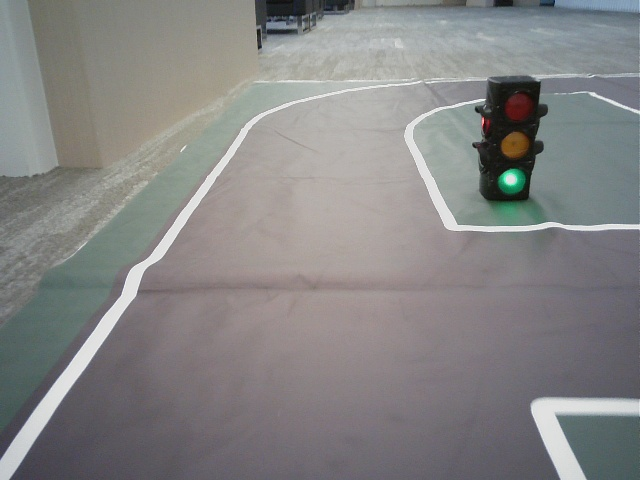green: (492, 83, 533, 196)
